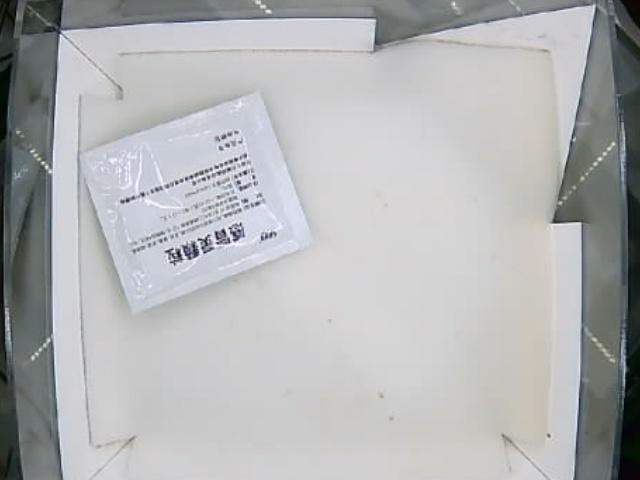Medicine: (82, 91, 312, 314)
